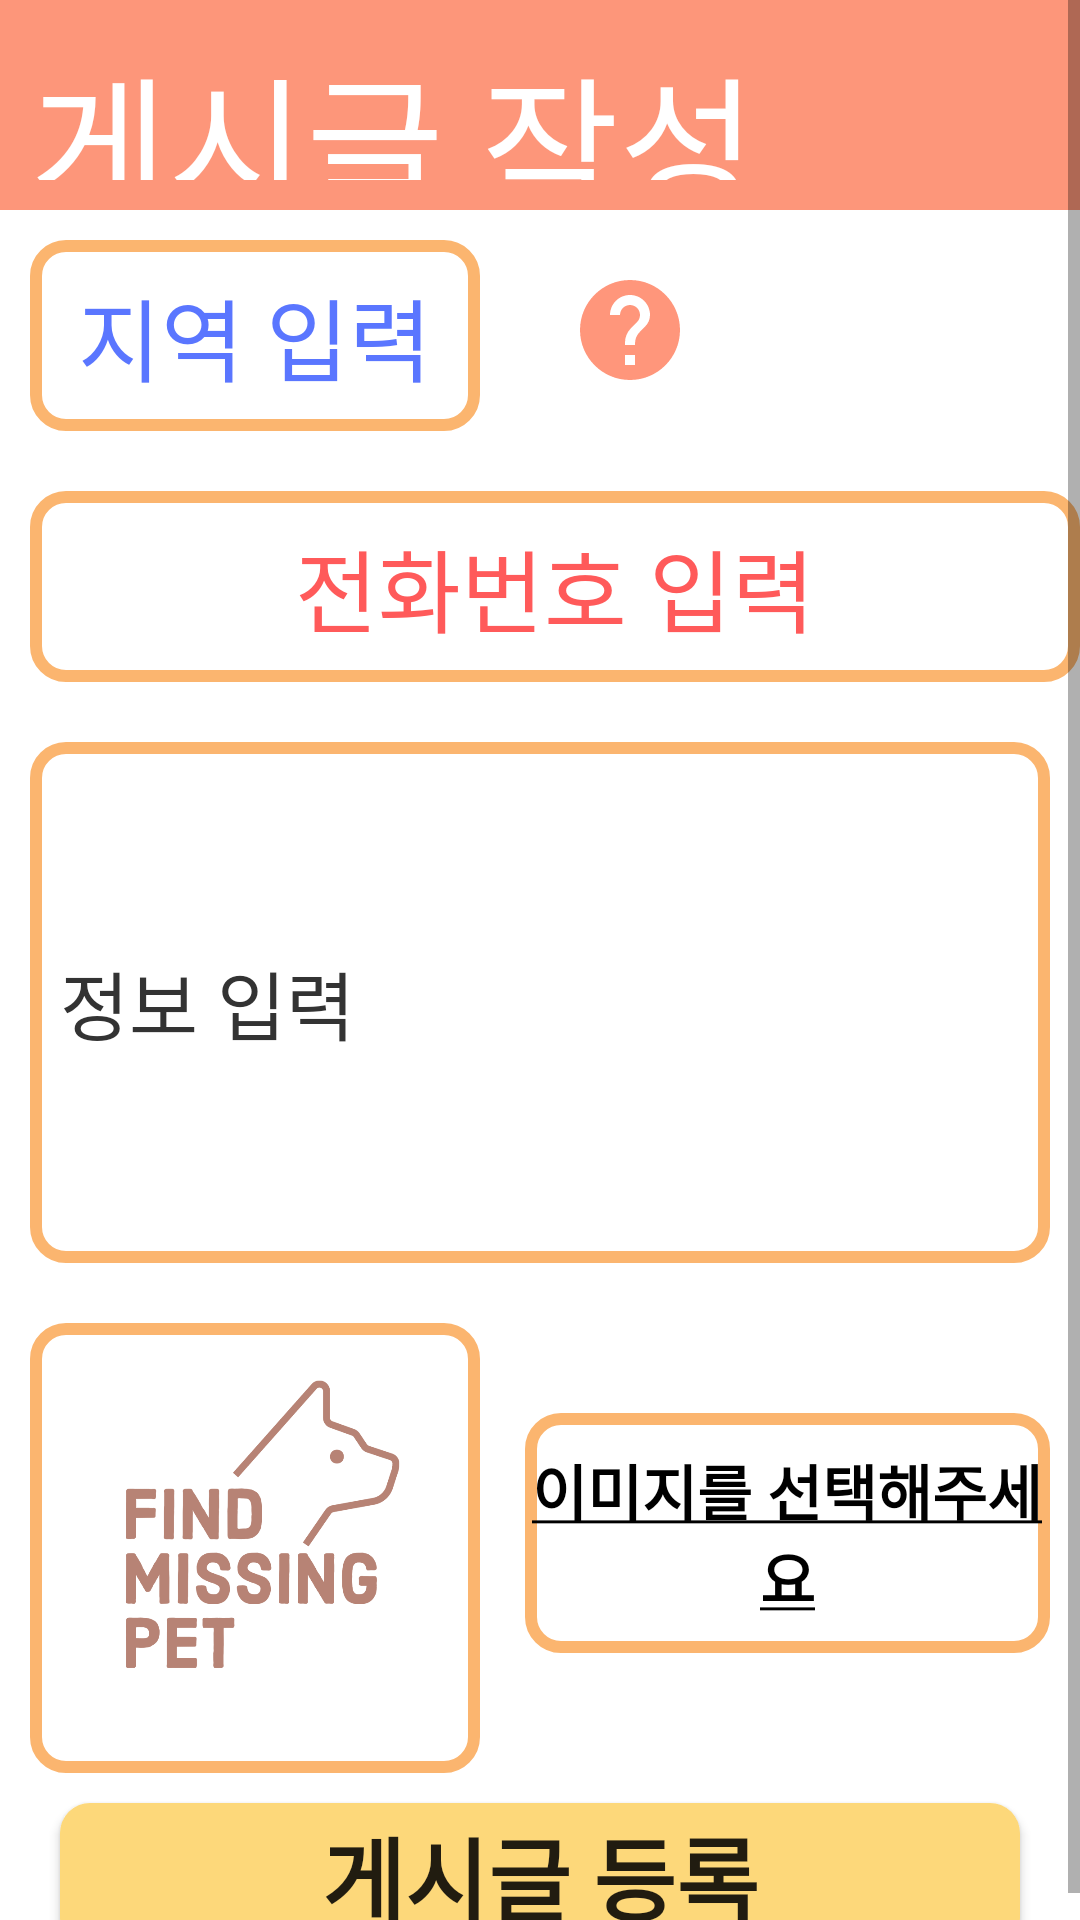

Icon bounding boxes for this 1080 x 1920 phone screenshot, format [x1=x1, y1=y1, x2=x2, y2=y2]:
help: [x1=580, y1=280, x2=680, y2=380]
